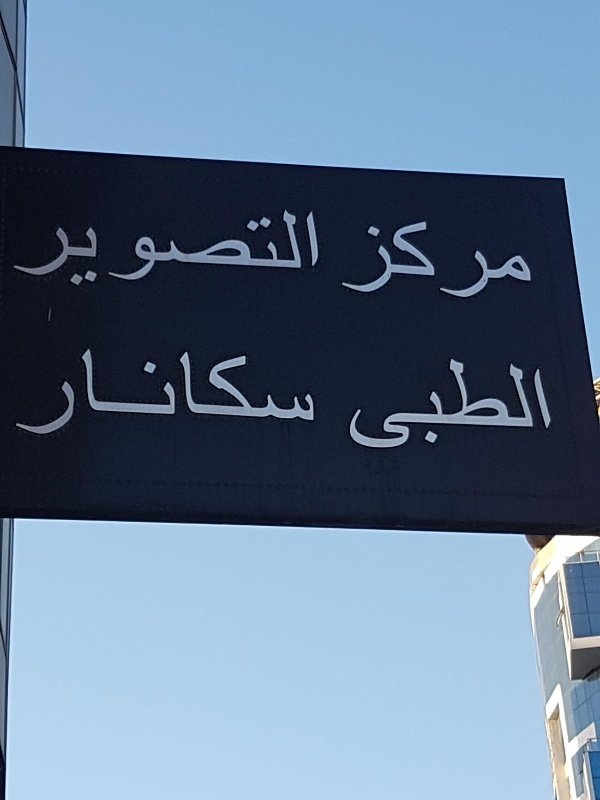text: (49, 203, 64, 319), (65, 203, 80, 319), (81, 203, 96, 319), (97, 203, 112, 319), (113, 203, 128, 319), (129, 203, 144, 319), (145, 203, 160, 319), (161, 203, 176, 319), (177, 203, 192, 319), (193, 203, 208, 319), (209, 203, 224, 319), (225, 203, 240, 319), (241, 203, 256, 319), (257, 203, 272, 319), (273, 203, 288, 319), (289, 203, 304, 319), (305, 203, 320, 319), (17, 341, 32, 446), (33, 341, 48, 446), (49, 341, 64, 446), (65, 341, 80, 446), (81, 341, 96, 446), (97, 341, 112, 446), (113, 341, 128, 446), (129, 341, 144, 446), (145, 341, 160, 446), (161, 341, 176, 446), (177, 341, 192, 446), (193, 341, 208, 446), (209, 341, 224, 446), (225, 341, 240, 446), (241, 341, 256, 446), (257, 341, 272, 446), (273, 341, 288, 446), (289, 341, 304, 446), (305, 341, 320, 446), (353, 355, 368, 452), (369, 355, 384, 452), (385, 355, 400, 452), (401, 355, 416, 452), (417, 355, 432, 452), (433, 355, 448, 452), (449, 355, 464, 452), (465, 355, 480, 452), (481, 355, 496, 452), (497, 355, 512, 452), (513, 355, 528, 452), (529, 355, 544, 452), (353, 215, 368, 303), (369, 215, 384, 303), (385, 215, 400, 303), (401, 215, 416, 303), (417, 215, 432, 303), (433, 215, 448, 303), (449, 215, 464, 303), (465, 215, 480, 303), (481, 215, 496, 303), (497, 215, 512, 303), (513, 215, 528, 303), (39, 203, 48, 319), (341, 215, 352, 303), (545, 355, 553, 452), (529, 215, 535, 303), (321, 203, 325, 319), (349, 355, 352, 452)
